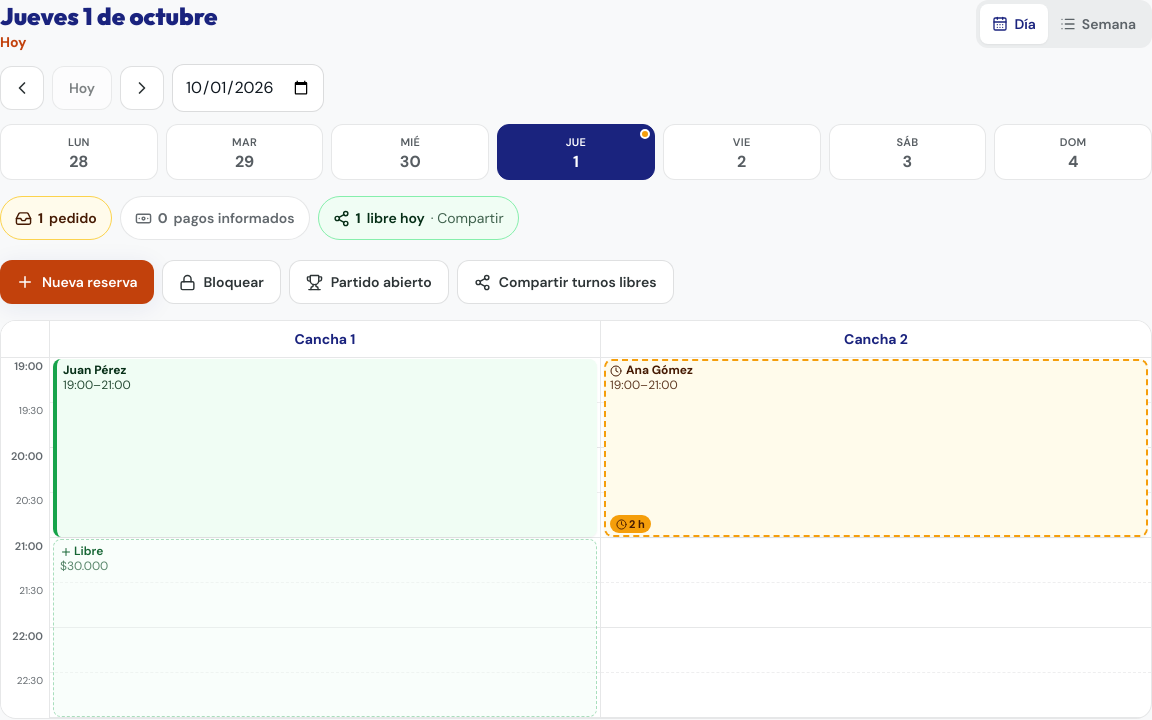
it: agenda del club › registra un pago desde el detalle de la reserva
Click the button with aria-label "Juan Pérez, cargada por el club": {"x": 95, "y": 370} [53,359,597,537]
(page scrolled)
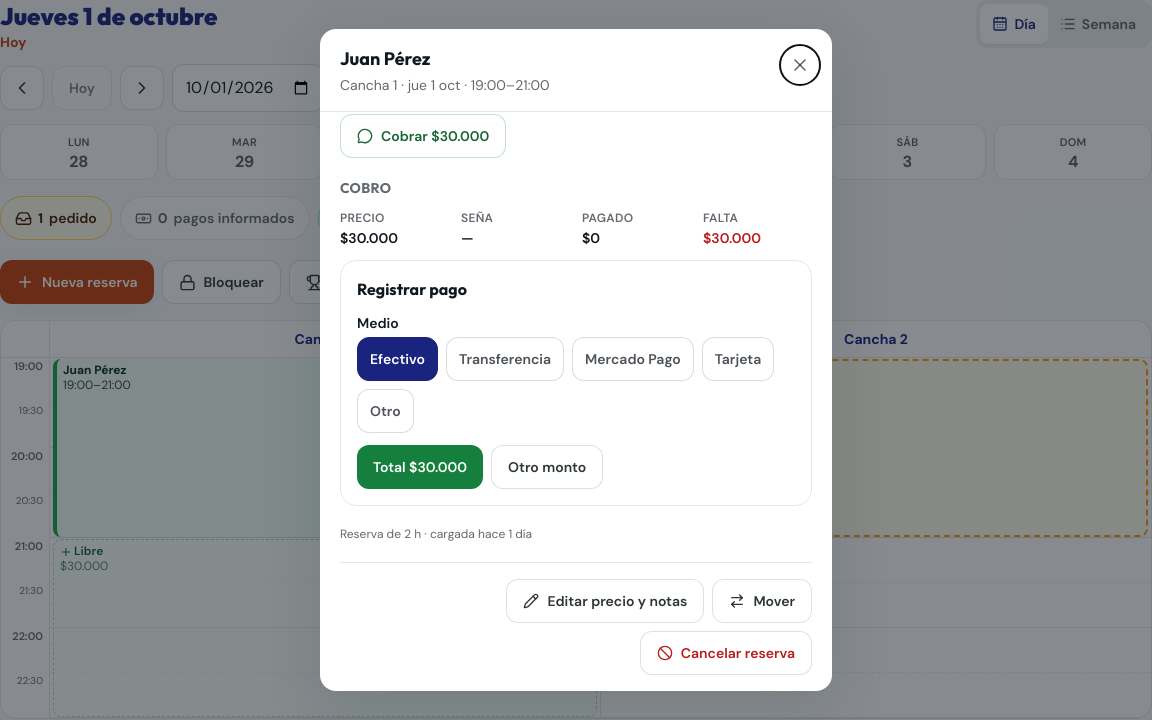
Click the button "Total $30.000": {"x": 420, "y": 467} [357,445,483,489]
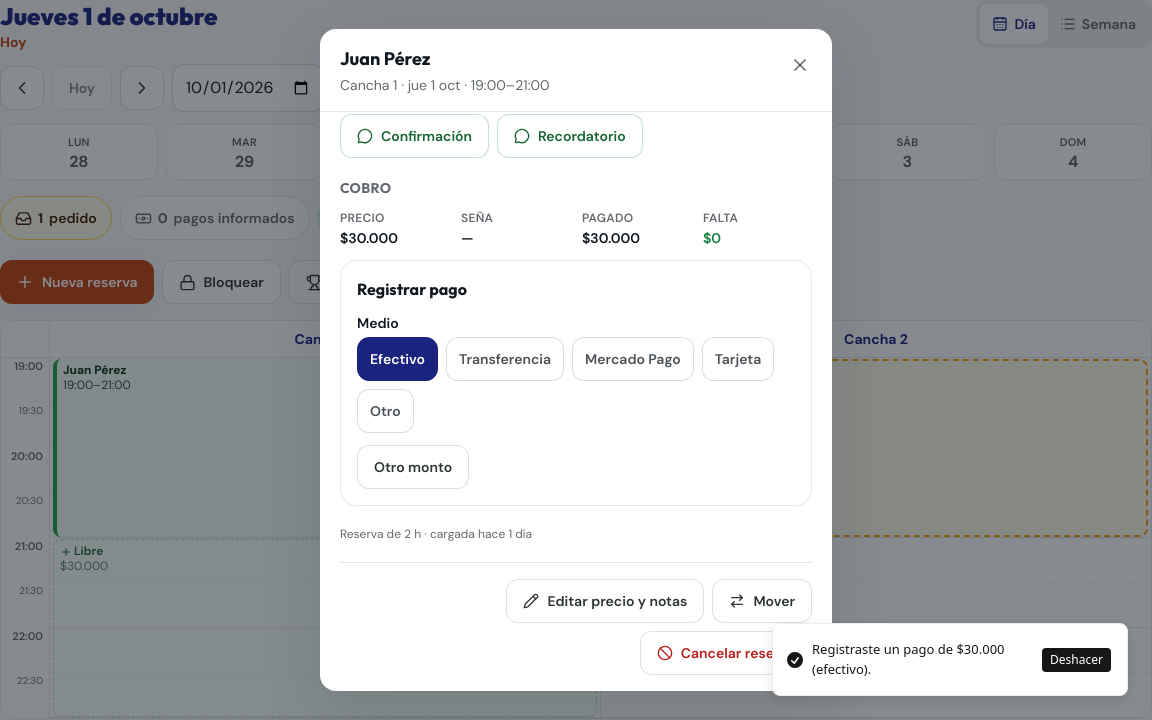
Now the button "Total $30.000" is gone
Now the text "Registraste un pago de $30.000 (efectivo)." is shown, box [812,640,1036,679]
